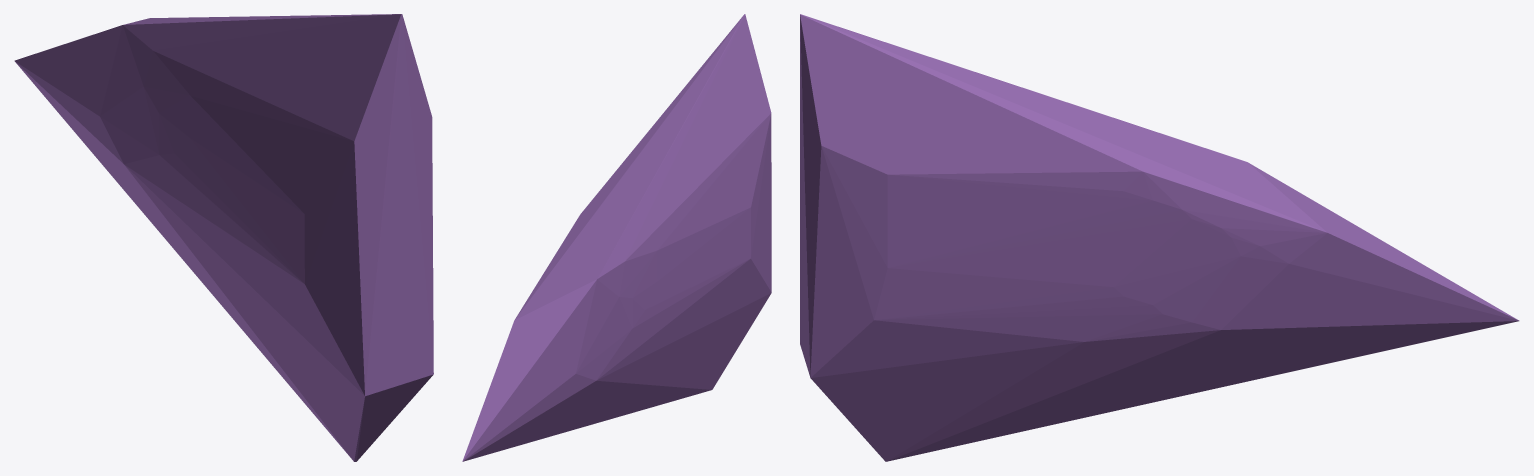
File: medical_sample_bag_a01.glb
3 renders of one model, left to right at view 1: azimuth 30°, elevation 25°; view 2: azimuth 150°, elevation 25°; view 3: azimuth 270°, elevation 25°, orthographic. The views are drawn at different scales.
Parts seen in each view (by area): view 1: geometry_0; view 2: geometry_0; view 3: geometry_0.
Boxes of the visible parts, x1,y1,x2,y2 form: geometry_0: [14, 14, 433, 461]; geometry_0: [462, 14, 771, 461]; geometry_0: [800, 14, 1519, 461].
Bounding box in the file's own units: 0.0755 × 0.3291 × 0.48.
